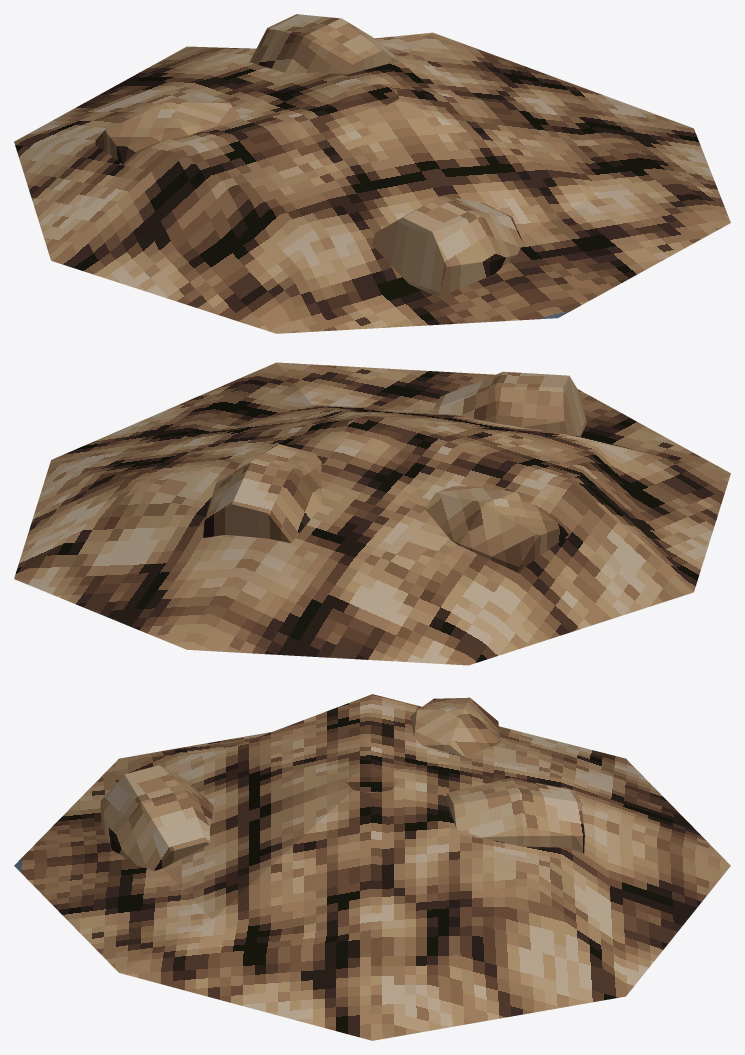
The model's file is barrel_filler_potatoes.glb.
3 renders of one model, top to bottom at view 1: azimuth 30°, elevation 25°; view 2: azimuth 150°, elevation 25°; view 3: azimuth 270°, elevation 25°, orthographic. The views are drawn at different scales.
Parts seen in each view (by area): view 1: barrel_filler_potatoes; view 2: barrel_filler_potatoes; view 3: barrel_filler_potatoes.
Part boxes in pixels (<box>): barrel_filler_potatoes: <box>14,14,730,333</box>; barrel_filler_potatoes: <box>14,362,730,665</box>; barrel_filler_potatoes: <box>14,694,730,1040</box>.
Size of the model in its own units: 0.9822 by 0.2127 by 0.9822.
Materials: 1 (1 with a texture image).
